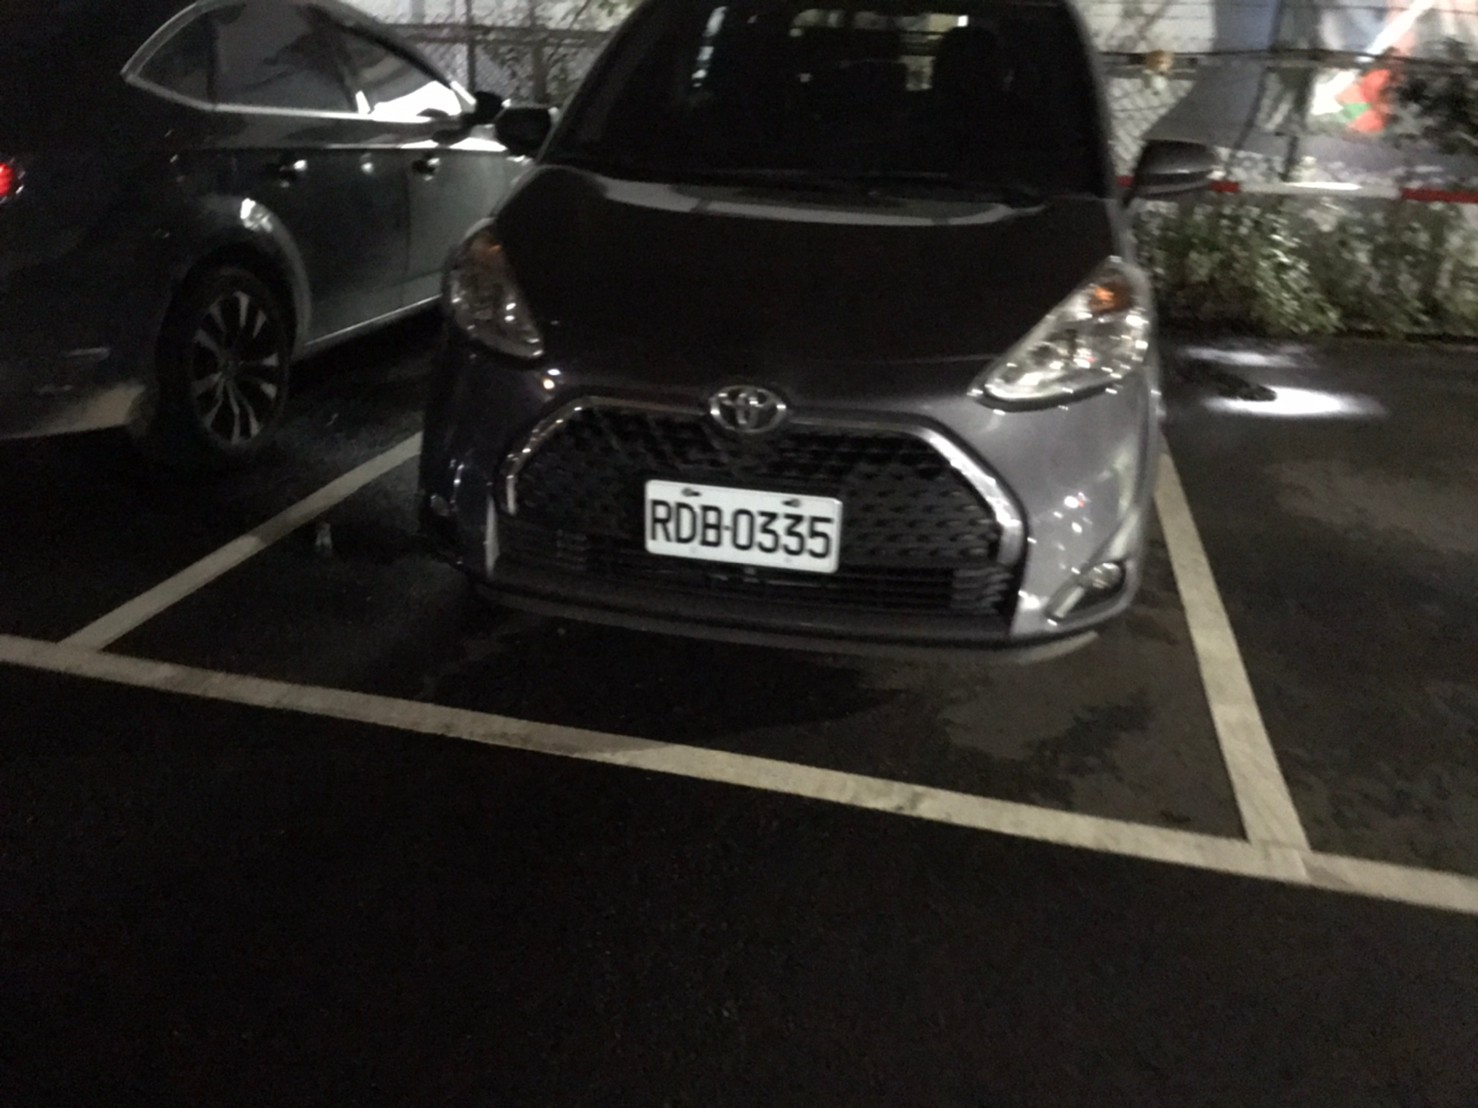LP: (642, 475, 841, 577)
